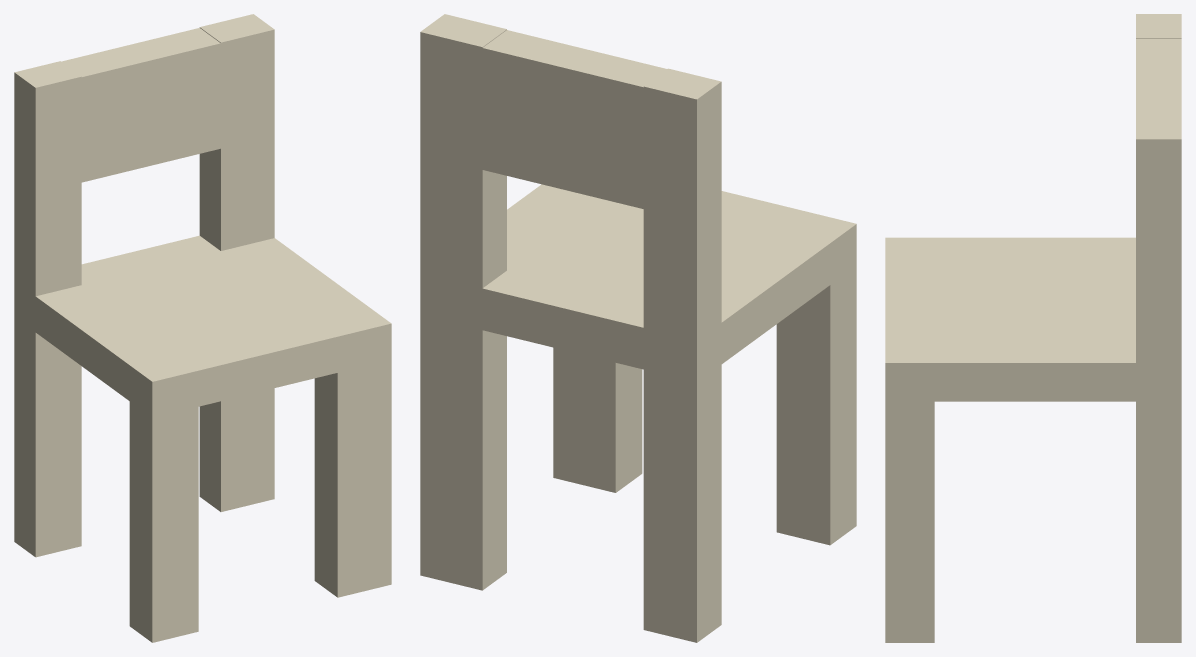
File: kursi3abuabu.glb
The picture shows the model from 3 angles, left to right: view 1: azimuth 30°, elevation 25°; view 2: azimuth 150°, elevation 25°; view 3: azimuth 270°, elevation 25°; orthographic projection. The views are drawn at different scales.
Parts seen in each view (by area): view 1: Cube; view 2: Cube; view 3: Cube.
Part boxes in pixels (x1,y1,x2,y2): Cube: (14,14,391,642); Cube: (420,14,856,642); Cube: (885,14,1181,642).
Bounding box in the file's own units: 0.4271 × 0.8012 × 0.4271.
